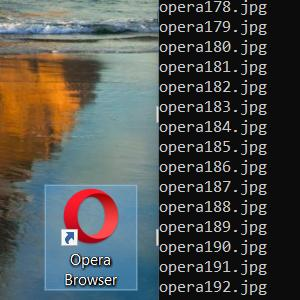opera: (60, 189, 119, 247)
